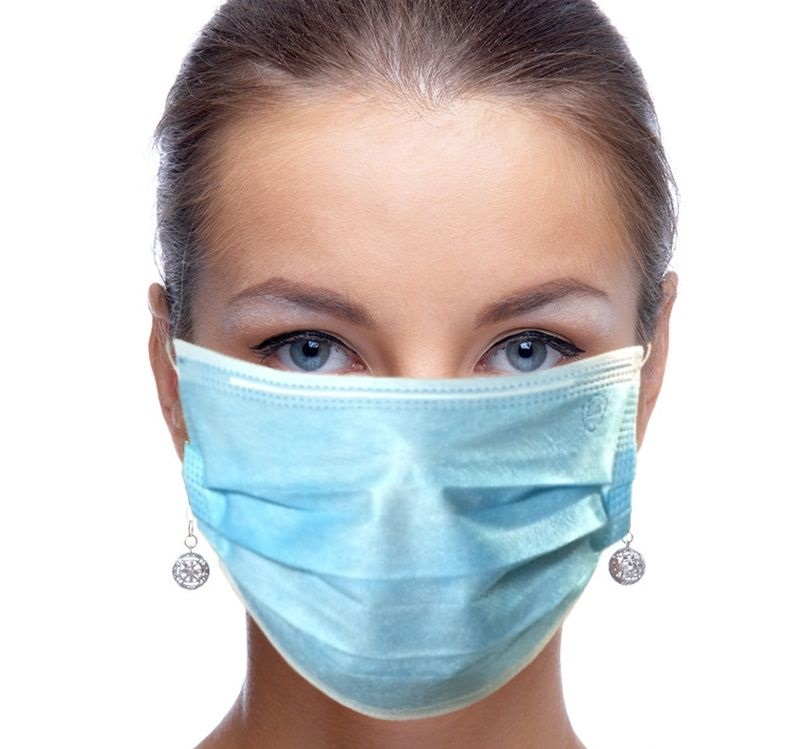face_mask: (183, 103, 644, 700)
